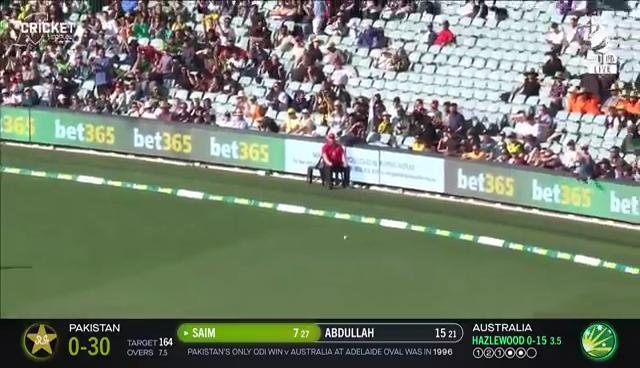ball: (333, 230, 354, 245)
